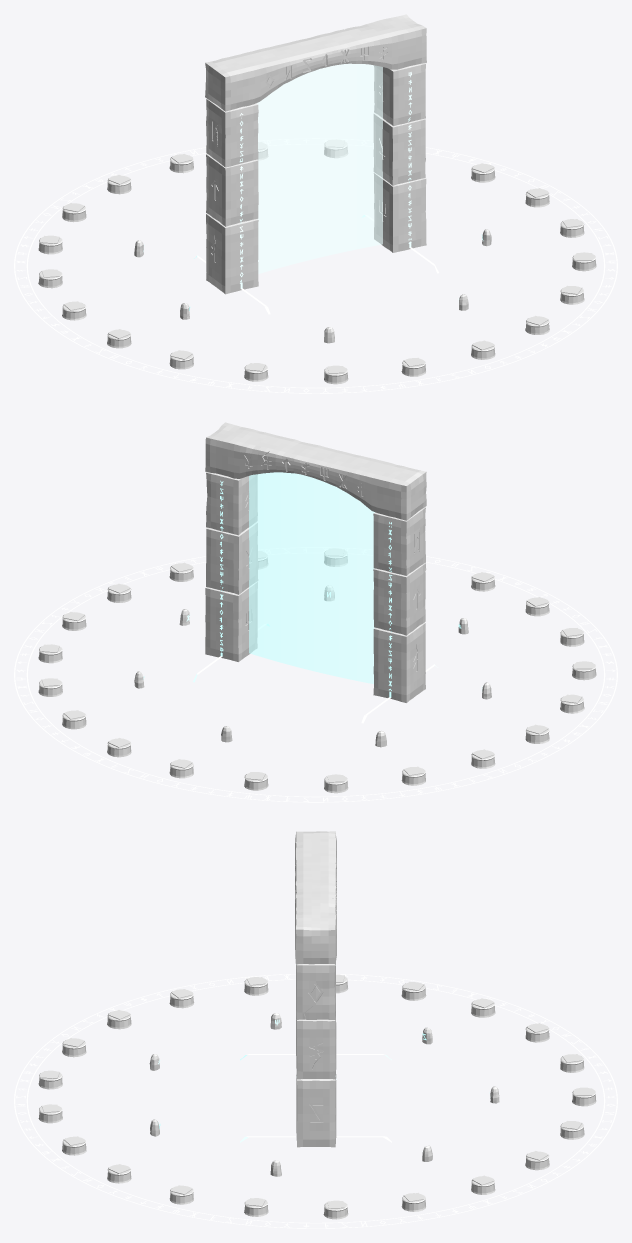
File: concordia_portal.glb
3 renders of one model, top to bottom at view 1: azimuth 30°, elevation 25°; view 2: azimuth 150°, elevation 25°; view 3: azimuth 270°, elevation 25°, orthographic.
Visible parts, largest first — view 1: PORTAL_Arch, PORTAL_Veil, PORTAL_AtrioRunes; view 2: PORTAL_Arch, PORTAL_Veil, PORTAL_AtrioRunes; view 3: PORTAL_Arch, PORTAL_AtrioRunes.
Boxes of the visible parts, x1,y1,x2,y2 form: PORTAL_Arch: (194, 14, 438, 314); PORTAL_Veil: (257, 63, 382, 273); PORTAL_AtrioRunes: (14, 138, 617, 393); PORTAL_Arch: (193, 422, 438, 723); PORTAL_Veil: (249, 472, 374, 683); PORTAL_AtrioRunes: (14, 547, 617, 802); PORTAL_Arch: (240, 831, 391, 1147); PORTAL_AtrioRunes: (14, 974, 617, 1228).
Size of what is drawn, in the model's own units: 30.4 by 12.33 by 30.4.
5 materials, 2 textured.
